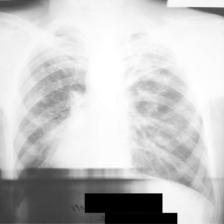tuberculosis: (12, 28, 219, 222)
